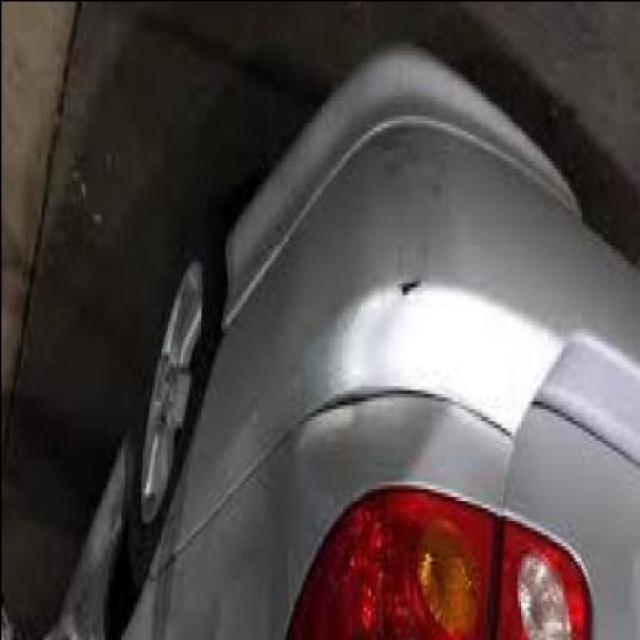damage: (296, 258, 479, 489), (171, 401, 291, 639)
